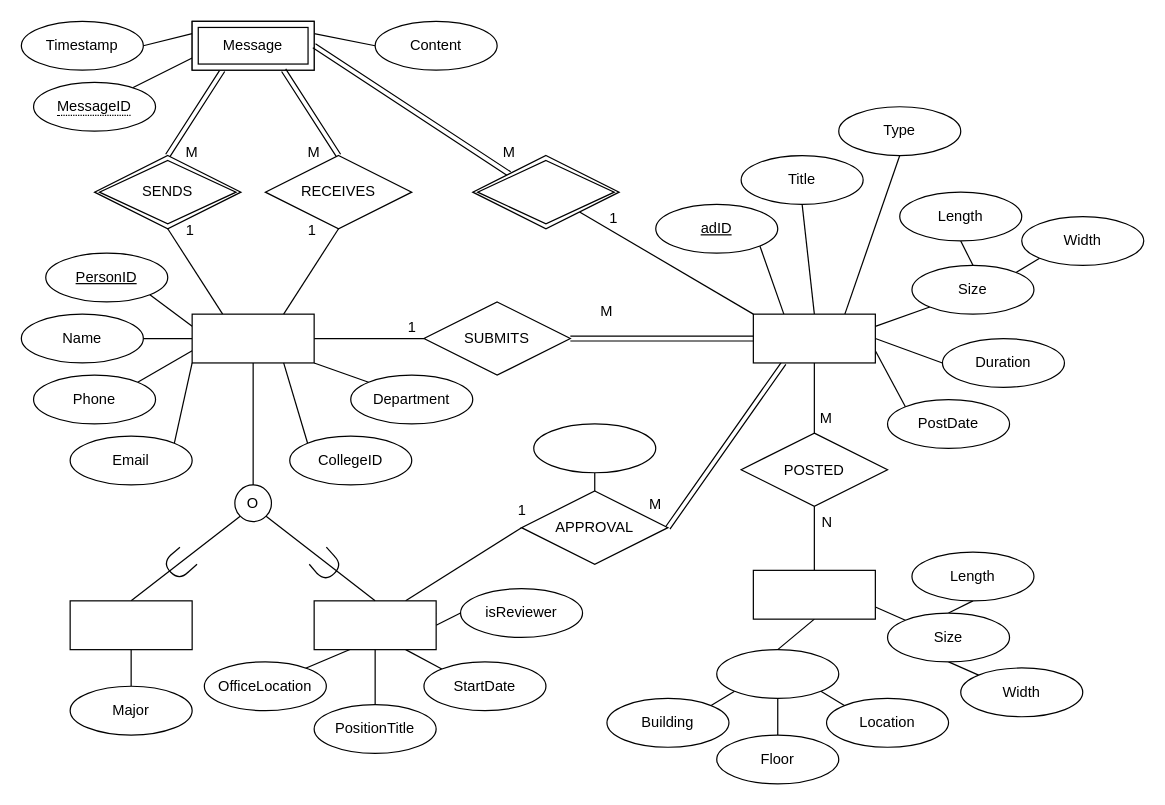
Image size: 1165x805. Some labels were removed from this diagram. The box of each missing label's shape, as (x1, y1, x2, y2) in pixels:
Ad: (752, 313, 875, 363)
Board: (752, 569, 875, 619)
BoardID: (716, 648, 839, 698)
Employee: (313, 600, 436, 650)
Person: (191, 313, 314, 363)
REGARDING: (472, 154, 619, 229)
Status: (533, 423, 656, 473)
Student: (69, 600, 192, 650)
